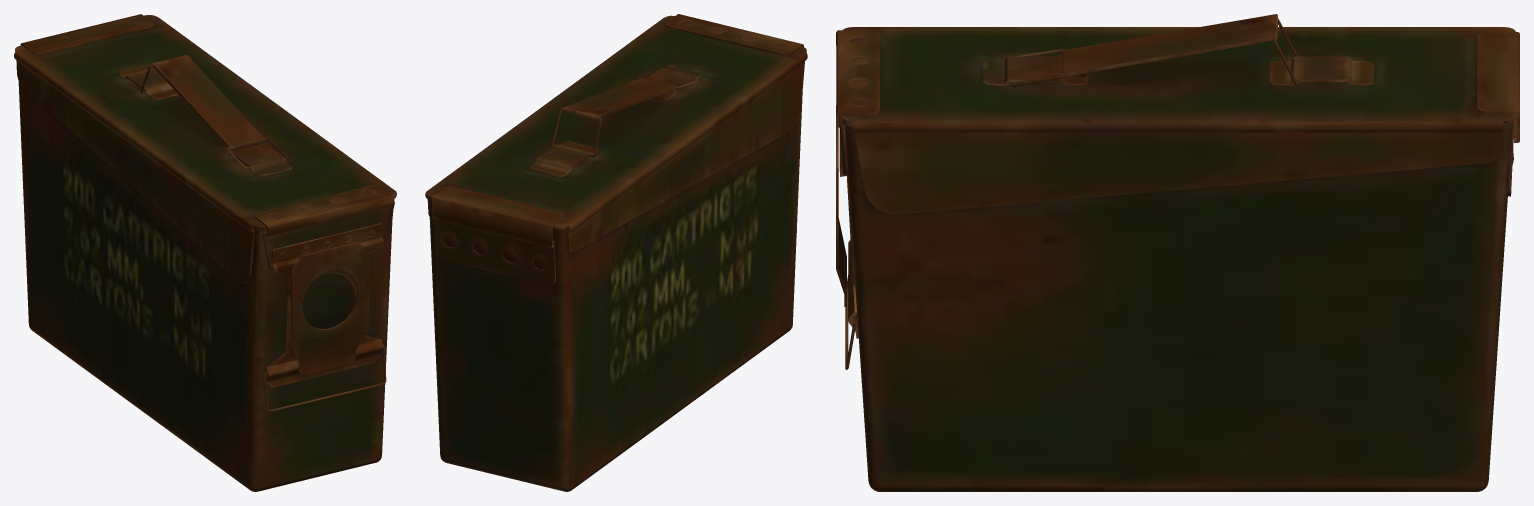
The model's file is ammo_box.glb.
3 renders of one model, left to right at view 1: azimuth 30°, elevation 25°; view 2: azimuth 150°, elevation 25°; view 3: azimuth 270°, elevation 25°, orthographic. The views are drawn at different scales.
Visible parts, largest first — view 1: ammo_box_handle_ring_b; view 2: ammo_box_handle_ring_b; view 3: ammo_box_handle_ring_b.
Boxes of the visible parts, <box> form: ammo_box_handle_ring_b: <box>14,14,396,491</box>; ammo_box_handle_ring_b: <box>425,14,807,491</box>; ammo_box_handle_ring_b: <box>836,14,1519,491</box>.
Size of the model in its own units: 0.0865 by 0.1775 by 0.2578.
Materials: 1 (1 with a texture image).
